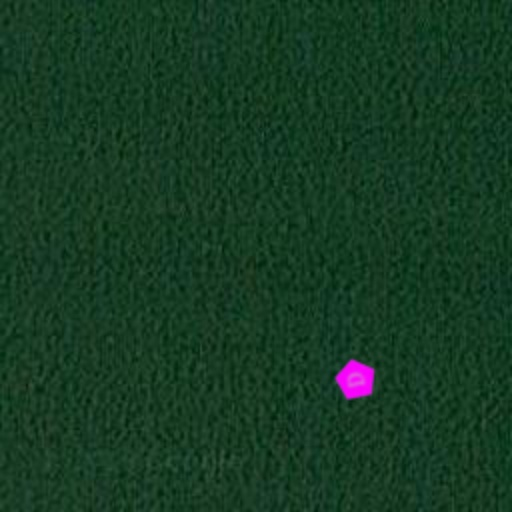pentagon: (330, 354, 382, 406)
